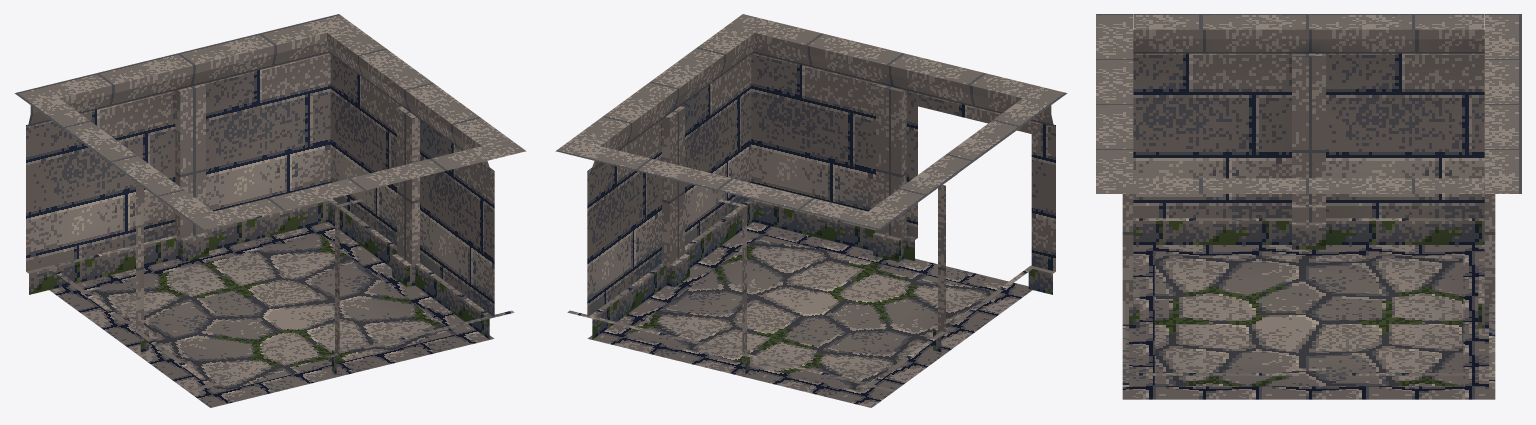
The model's file is dgn.room__small.glb.
3 renders of one model, left to right at view 1: azimuth 30°, elevation 25°; view 2: azimuth 150°, elevation 25°; view 3: azimuth 270°, elevation 25°, orthographic. The views are drawn at different scales.
Visible parts, largest first — view 1: kit_shell_walls, kit_shell_floor; view 2: kit_shell_walls, kit_shell_floor; view 3: kit_shell_walls, kit_shell_floor.
Part boxes in pixels (x1,y1,x2,y2): kit_shell_walls: [14, 14, 526, 391]; kit_shell_floor: [49, 222, 494, 407]; kit_shell_walls: [555, 14, 1067, 391]; kit_shell_floor: [587, 222, 1032, 407]; kit_shell_walls: [1096, 14, 1521, 386]; kit_shell_floor: [1122, 245, 1495, 399].
Size of the model in its own units: 8 by 4.5 by 8.
Materials: 5 (5 with a texture image).
